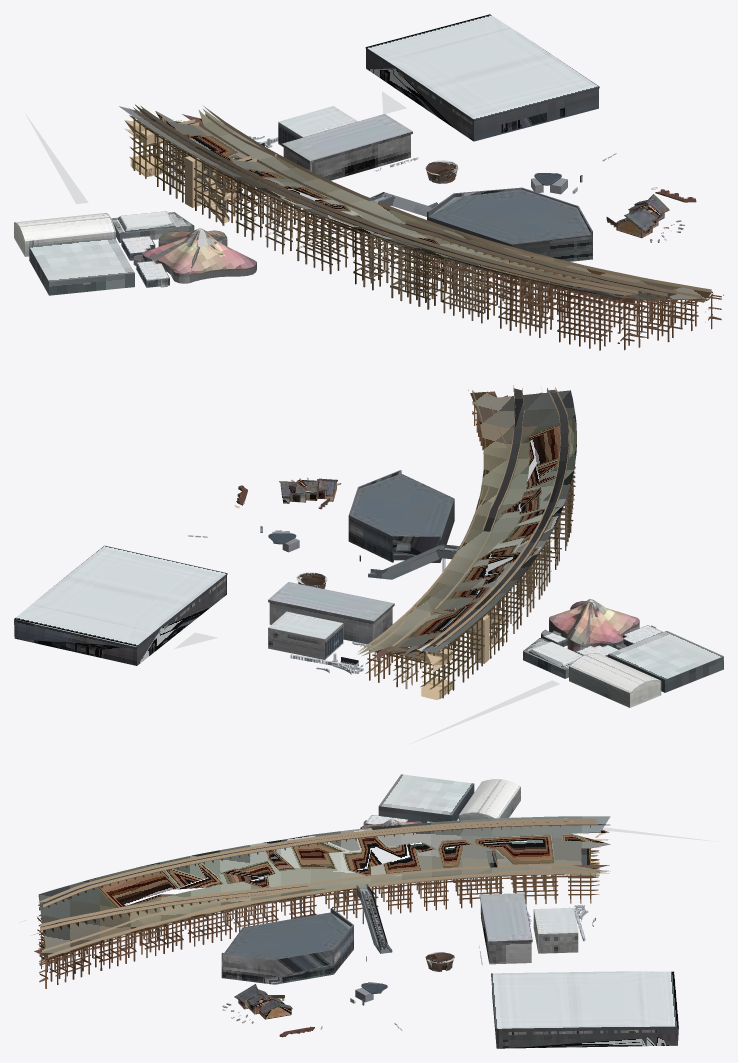
3 views of the same model, one above another, from view 1: azimuth 30°, elevation 25°; view 2: azimuth 150°, elevation 25°; view 3: azimuth 270°, elevation 25° (orthographic). The views are drawn at different scales.
Visible parts, largest first — view 1: Buildings_建物パビリオン, GrandRoofRing_大屋根リング, Facilities_都市設備; view 2: Buildings_建物パビリオン, GrandRoofRing_大屋根リング, Facilities_都市設備; view 3: GrandRoofRing_大屋根リング, Buildings_建物パビリオン, Facilities_都市設備.
Part boxes in pixels (x1,y1,x2,y2): Buildings_建物パビリオン: (14, 14, 669, 295); GrandRoofRing_大屋根リング: (119, 104, 723, 350); Facilities_都市設備: (249, 136, 696, 242); Buildings_建物パビリオン: (14, 470, 723, 744); GrandRoofRing_大屋根リング: (358, 385, 576, 699); Facilities_都市設備: (188, 477, 369, 674); GrandRoofRing_大屋根リング: (33, 816, 610, 988); Buildings_建物パビリオン: (221, 774, 721, 1048); Facilities_都市設備: (222, 903, 595, 1037).
Bounding box in the file's own units: 224 × 21.3 × 256.
Materials: 32 (29 with a texture image).
